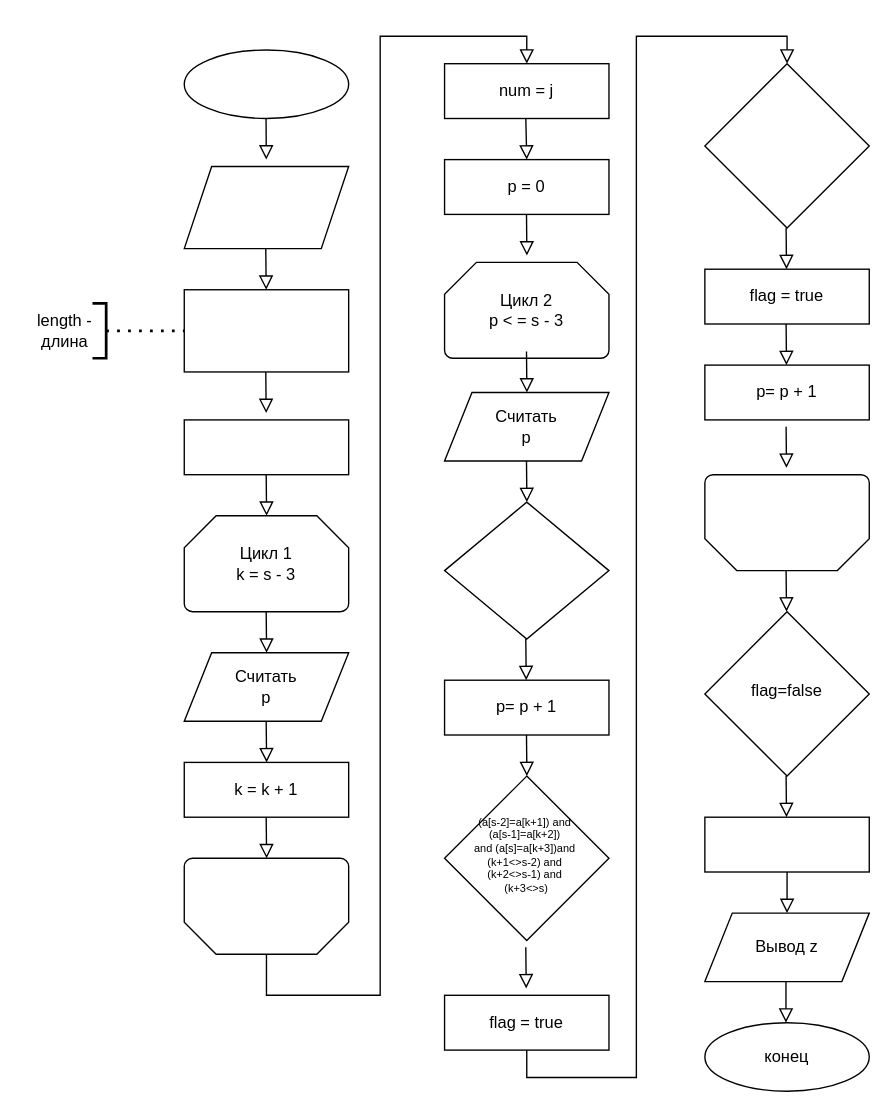
The diagram is 893 pixels wide and 1115 high, and some of its shapes have lost their labels. Each missing label, with the centre of its shape:
"(a[k+1]=a[p+1]) and (a[k+2]=a[p+2]) and (a[k+3]=a[p+3])" belongs at point 786,145.
"(k+1=p+1) and (k+2=p+2) and (k+3=p+3)" belongs at point 526,570.
"k = 0" belongs at point 266,447.
"z= 0 s = length (a)" belongs at point 266,330.
"z= z + 1" belongs at point 786,844.
"начало" belongs at point 266,84.
"Цикл 1" belongs at point 266,905.
"Цикл 2" belongs at point 786,522.
